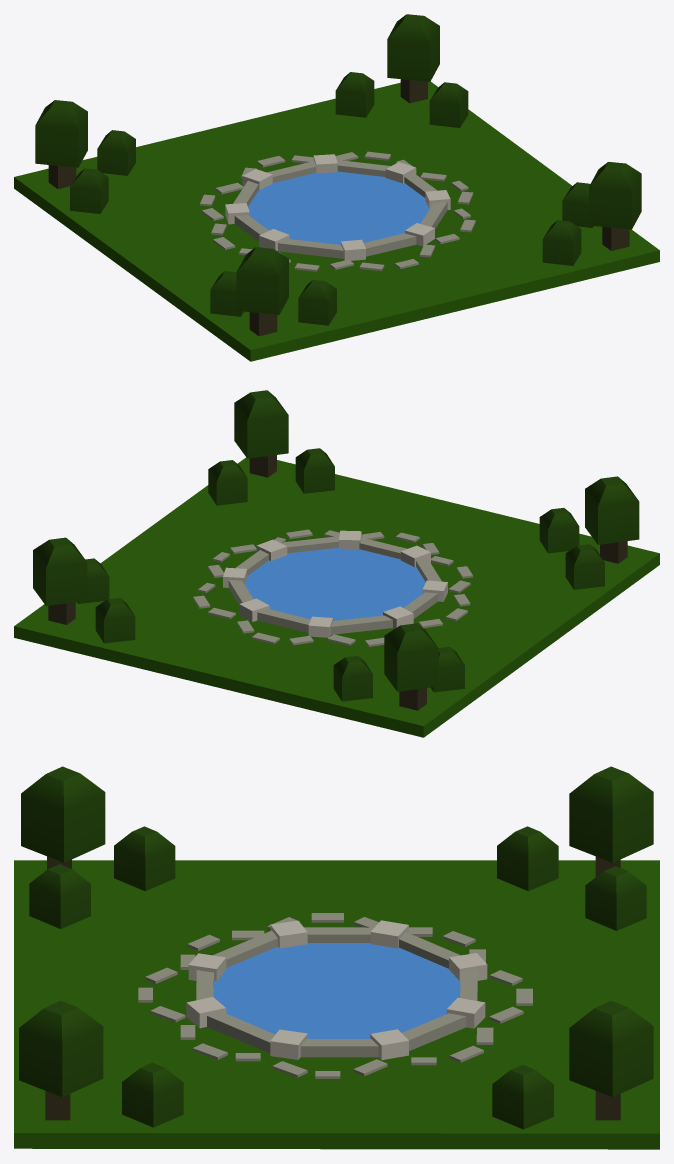
File: park_pond.fbx
The picture shows the model from 3 angles, top to bottom: view 1: azimuth 30°, elevation 25°; view 2: azimuth 150°, elevation 25°; view 3: azimuth 270°, elevation 25°; orthographic projection. The views are drawn at different scales.
Parts seen in each view (by area): view 1: polySurface1567; view 2: polySurface1567; view 3: polySurface1567.
Part boxes in pixels (bbox=[...]): polySurface1567: bbox=[14, 14, 659, 361]; polySurface1567: bbox=[14, 390, 659, 737]; polySurface1567: bbox=[14, 766, 659, 1149].
Bounding box in the file's own units: 200 × 42.15 × 200.
1 material, 1 textured.
